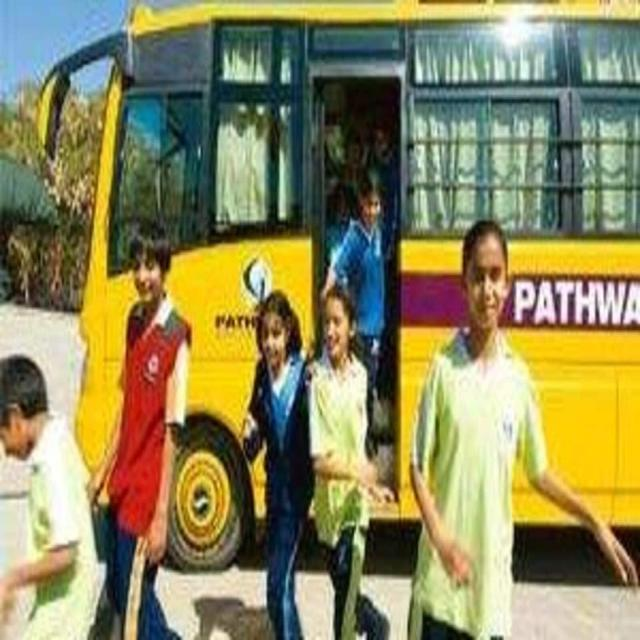bus: (39, 0, 640, 567)
